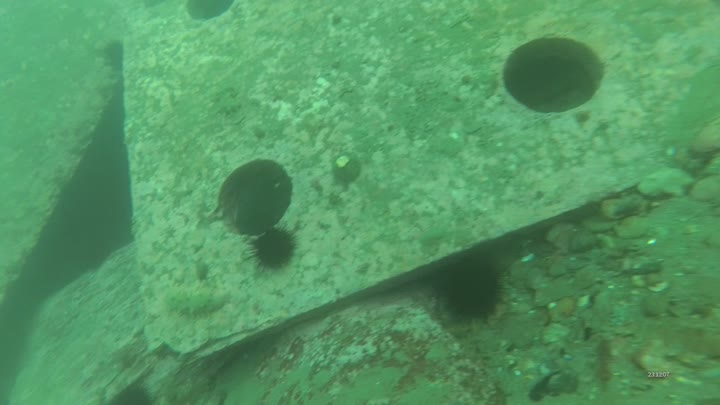echinus: (433, 254, 514, 325), (244, 223, 301, 275), (108, 380, 157, 405), (101, 39, 126, 74)
holothurian: (163, 285, 229, 320)
